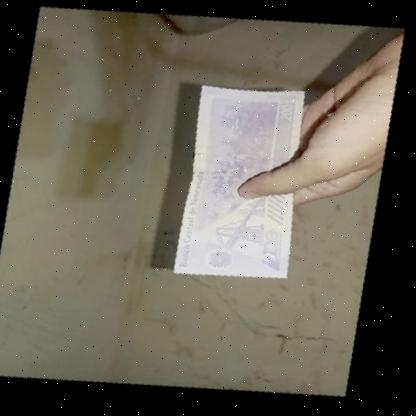two_hundred-back-vef: (148, 68, 347, 301)
